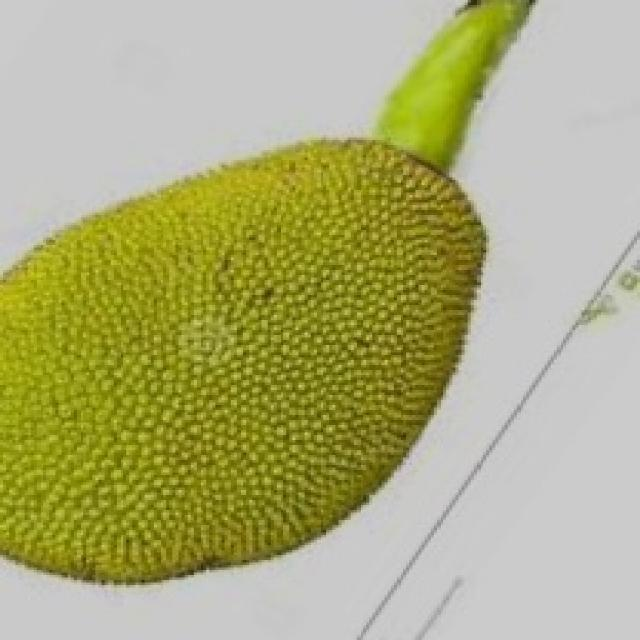Fruit: (135, 118, 520, 488), (0, 280, 400, 628)
